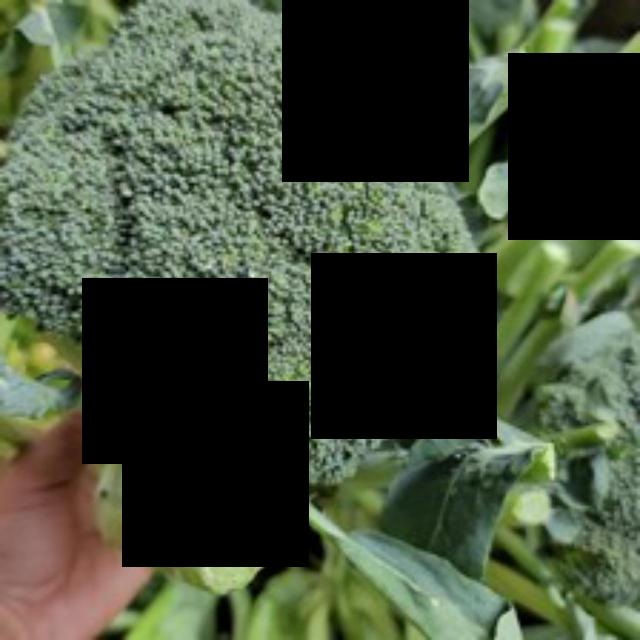broccoli: (0, 0, 482, 534)
